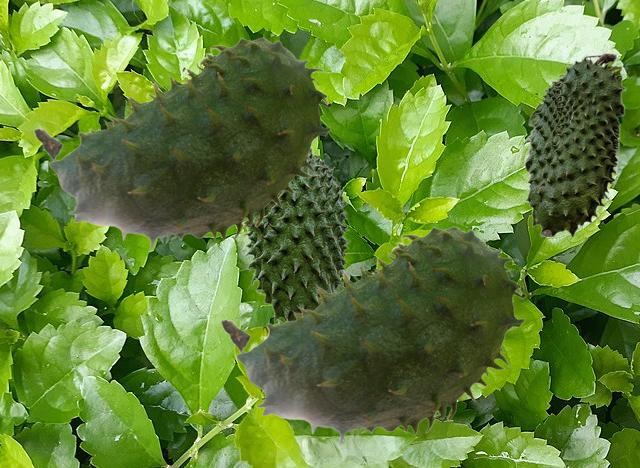guyabano: (220, 226, 525, 446), (33, 37, 331, 252), (241, 148, 350, 322), (523, 52, 625, 237)
